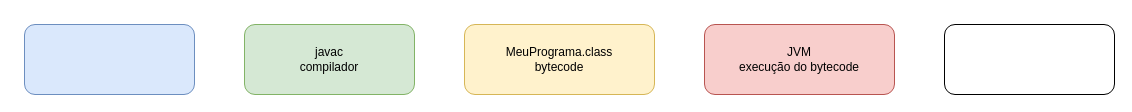
The diagram is 1132 pixels wide and 112 high, and some of its shapes have lost their labels. Here are the shapes that lost their labels. From the top down, the box of each, then its label:
(24, 24, 194, 94): MeuPrograma.java código-fonte
(944, 24, 1114, 94): Programa em execução
